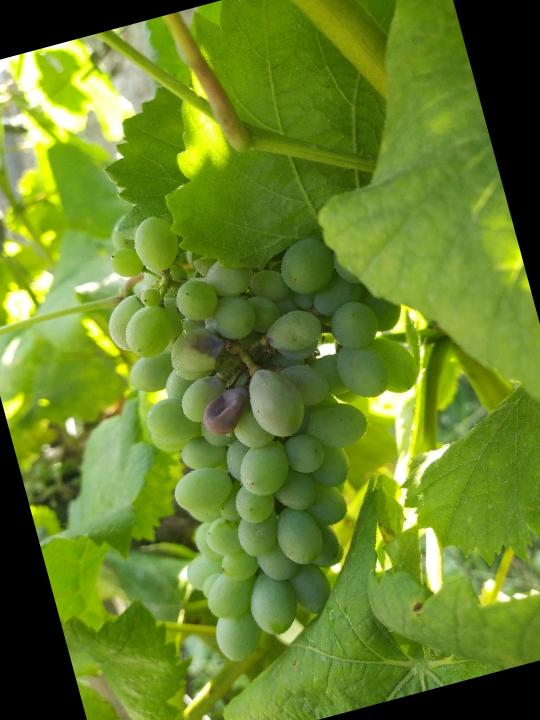grape: (78, 150, 482, 675)
